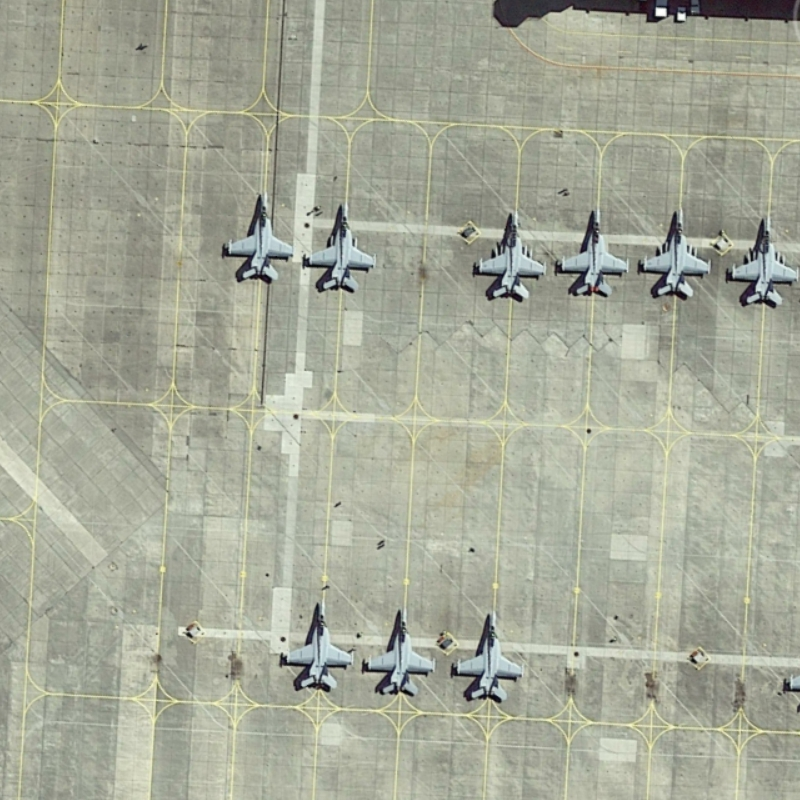A16: (449, 598, 532, 711), (632, 196, 715, 306), (468, 202, 552, 307), (278, 590, 357, 701), (214, 183, 297, 288), (301, 198, 382, 301), (553, 199, 633, 303), (361, 602, 441, 702), (725, 211, 800, 311)
